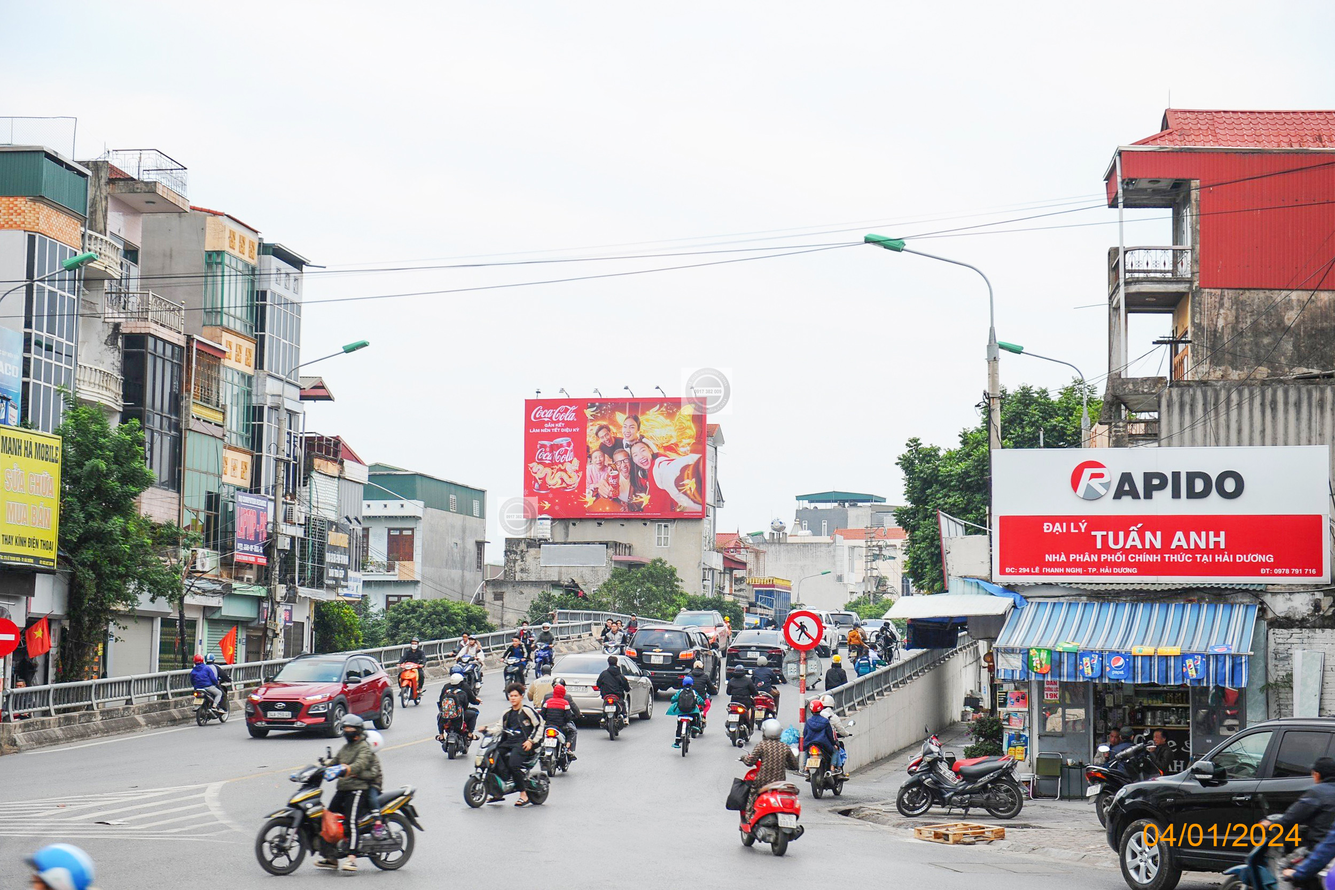bien_so: (775, 814, 799, 832), (542, 738, 557, 750), (727, 713, 741, 725)
